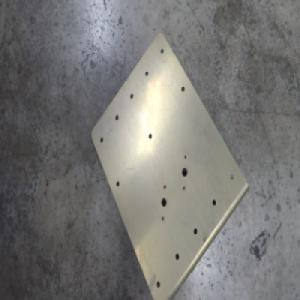MetalSheet: (89, 32, 248, 300)
